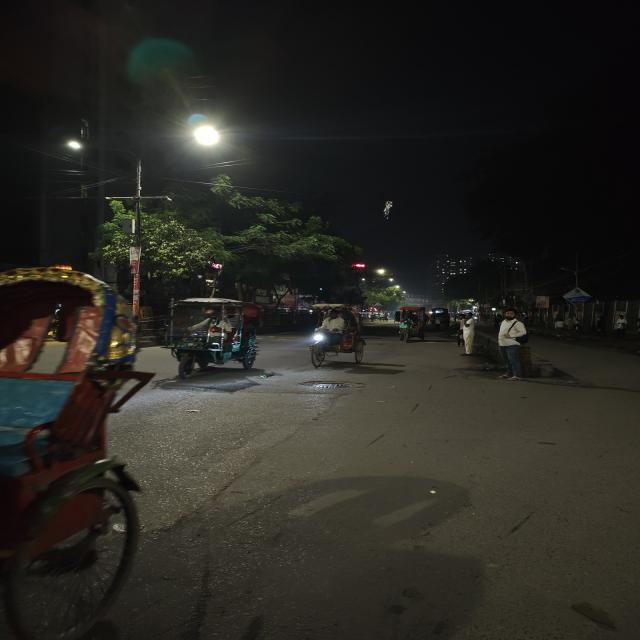car: (432, 304, 452, 335)
pedestrian: (486, 312, 534, 378), (455, 308, 479, 358)
rickshaw: (0, 259, 148, 640), (153, 287, 258, 373), (303, 298, 368, 370), (393, 305, 431, 346)
